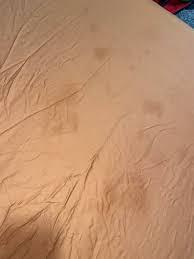mustard: (105, 163, 144, 214), (56, 86, 84, 138), (146, 97, 172, 120), (93, 46, 112, 62), (90, 23, 98, 36)
